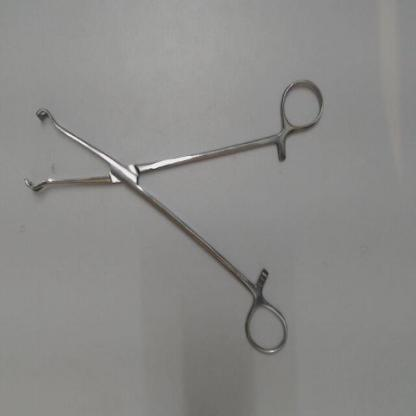8 Babcock Tissue Forceps: (19, 71, 331, 362)
